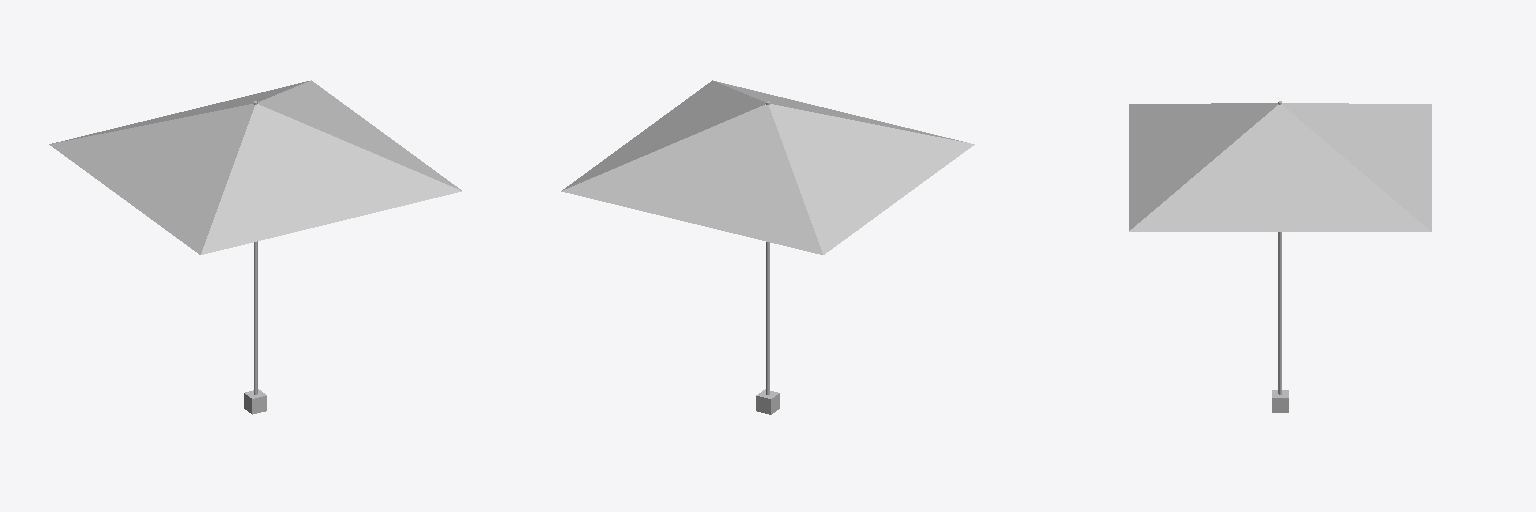
File: omb_o---.obj
The picture shows the model from 3 angles: view 1: azimuth 30°, elevation 25°; view 2: azimuth 150°, elevation 25°; view 3: azimuth 270°, elevation 25°; orthographic projection.
Parts seen in each view (by area): view 1: Sphere_Sphere.001; view 2: Sphere_Sphere.001; view 3: Sphere_Sphere.001.
Boxes of the visible parts, box(x1,y1,x2,y2) form: Sphere_Sphere.001: box(49, 80, 461, 414); Sphere_Sphere.001: box(561, 80, 974, 414); Sphere_Sphere.001: box(1129, 101, 1431, 412).
Bounding box in the file's own units: 6.4 × 7.16 × 6.4.